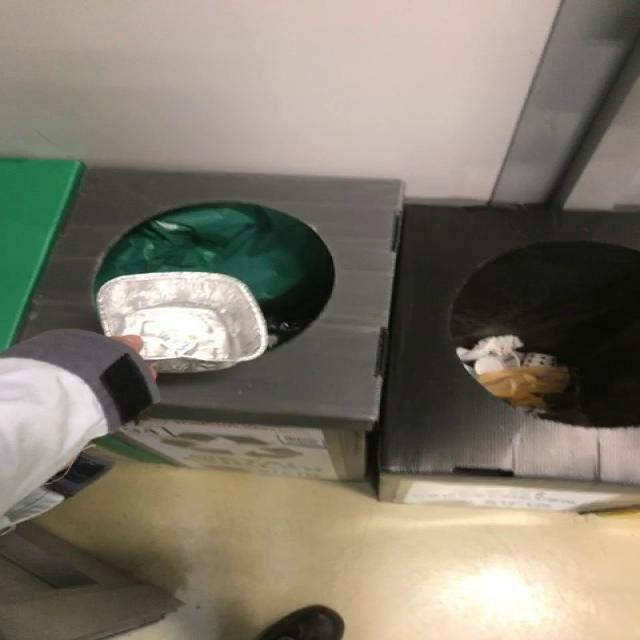Bin: (21, 168, 640, 510)
Metal: (96, 272, 267, 373)
